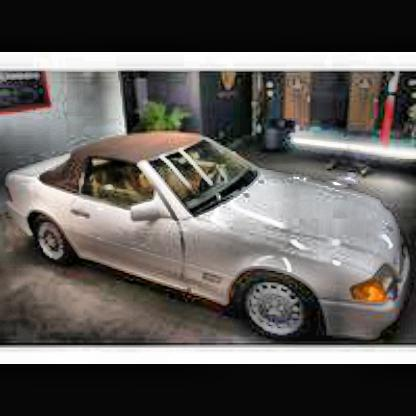Mercedes-Benz 300-Class Convertible 1993: (3, 130, 410, 352)
